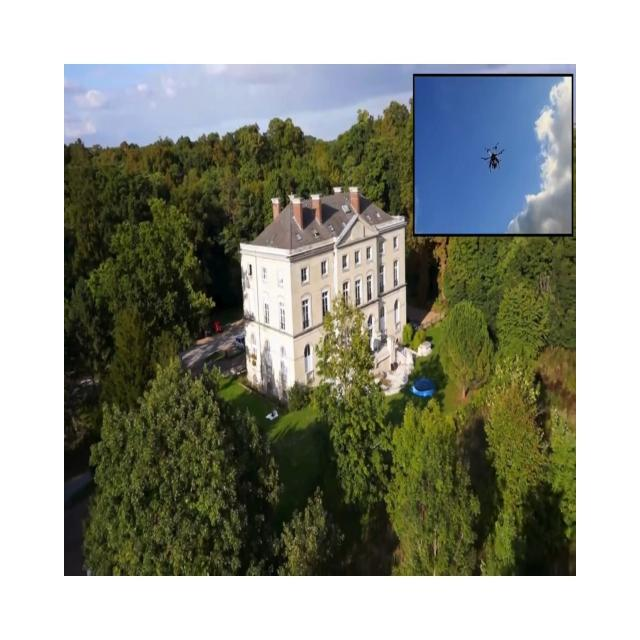drone: (481, 142, 504, 173)
